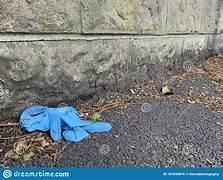Glove: (20, 105, 111, 141)
